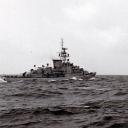Fragata: (4, 34, 99, 84)
